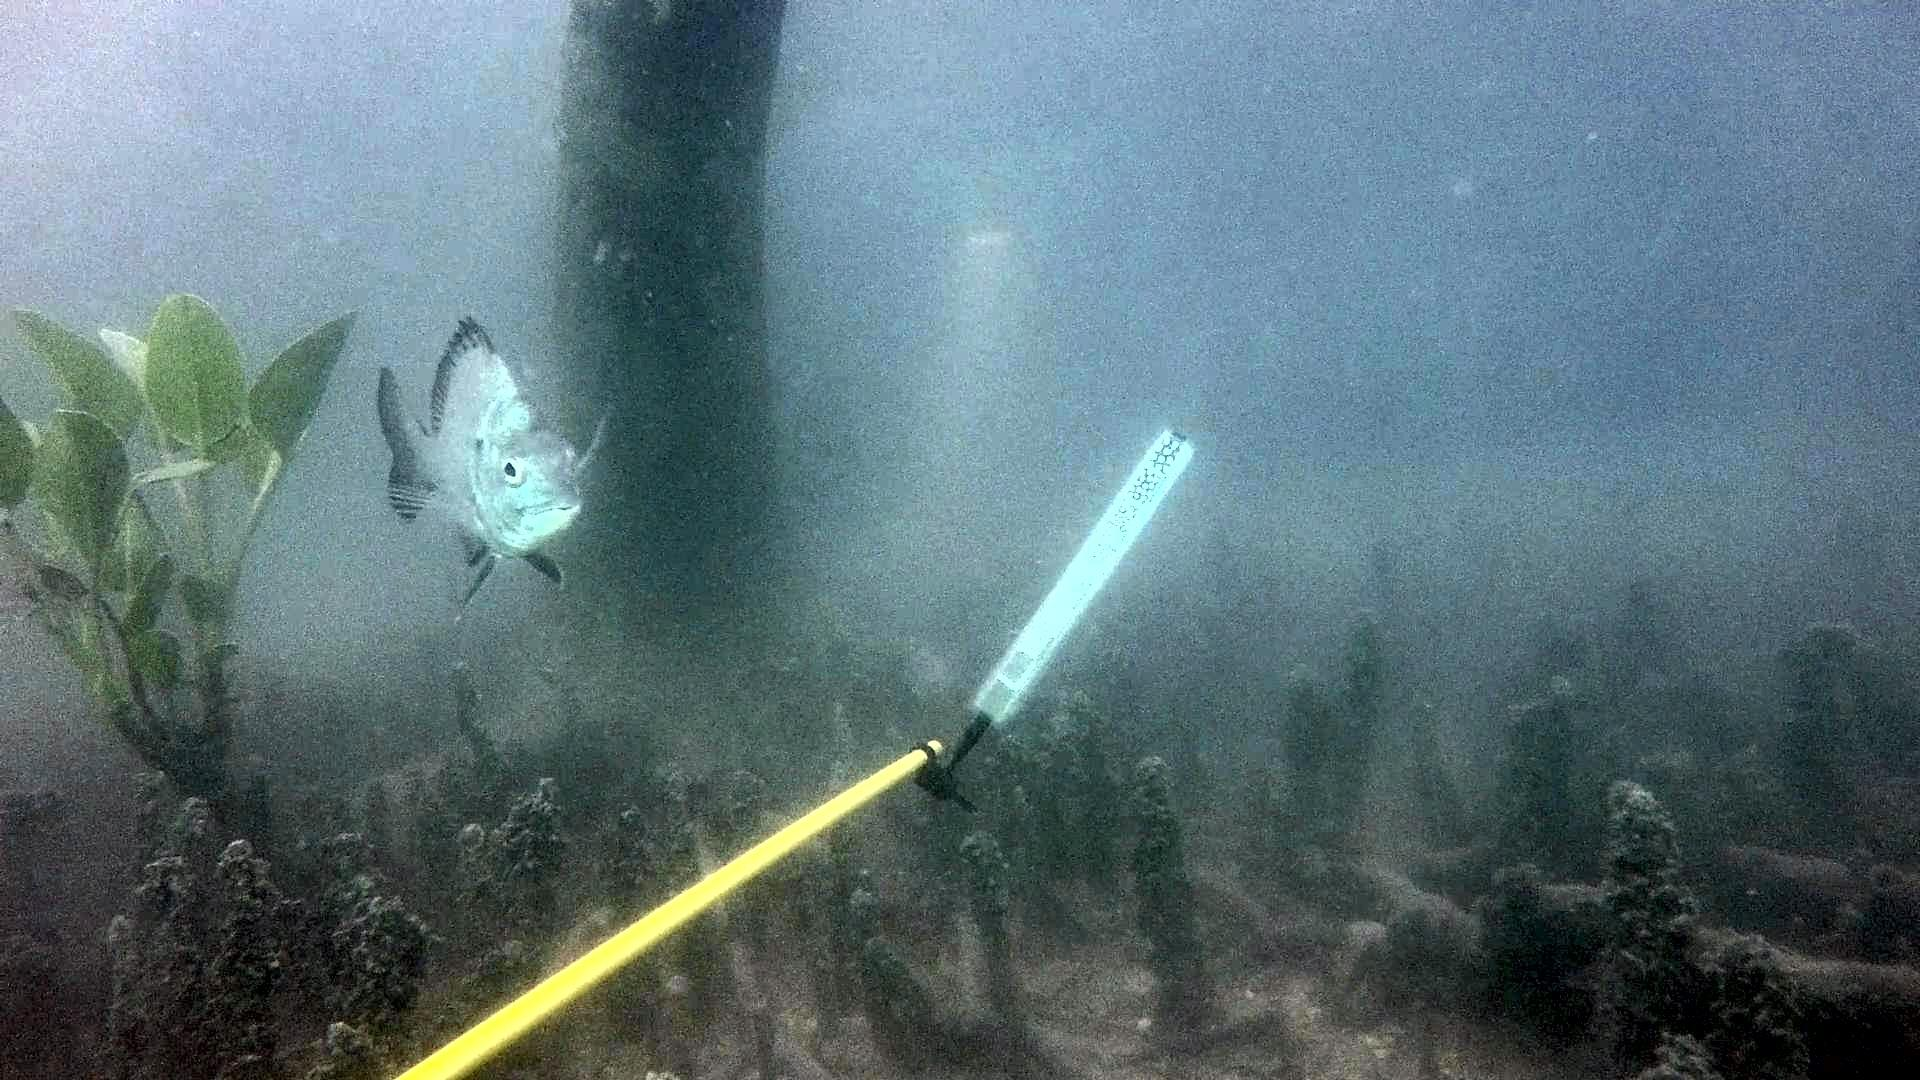acanthopagrus palmaris: (363, 298, 626, 638)
